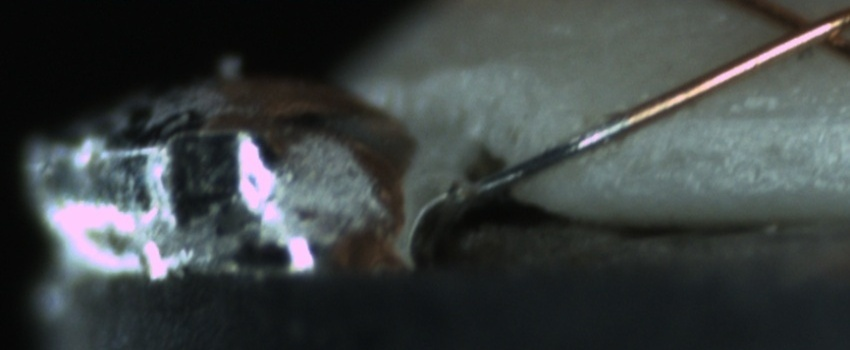CL: (755, 1, 848, 63)
DL: (674, 87, 849, 151)
TS: (471, 110, 634, 201)
